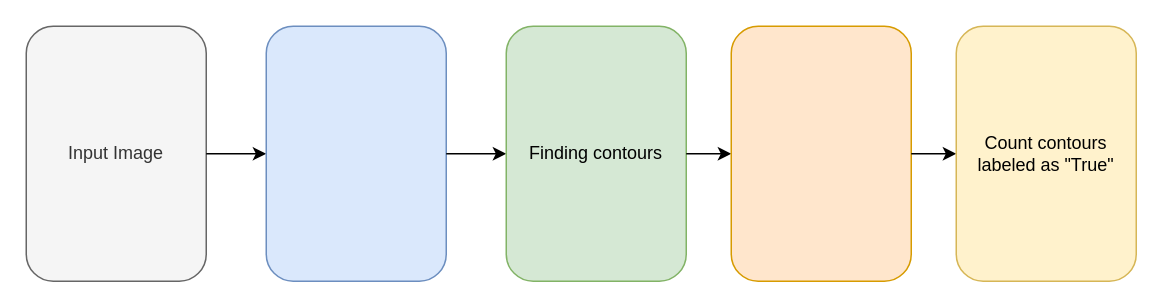
Some shapes in this 1163 by 308 pixel diagram are drawn without their labels. Each missing label, with the centre of its shape:
Contrasted Image: the point at 355,153
Full-connected network-classificator for each contour: the point at 820,153
